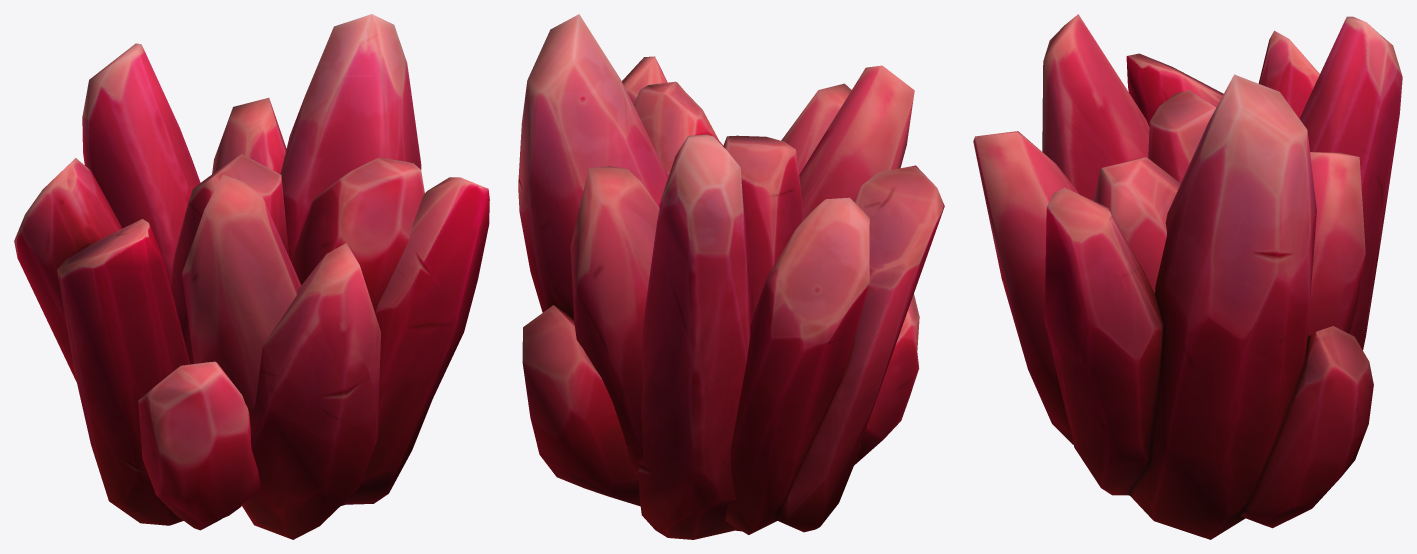
File: SM_Gem_Ruby_007.fbx
The picture shows the model from 3 angles, left to right: view 1: azimuth 30°, elevation 25°; view 2: azimuth 150°, elevation 25°; view 3: azimuth 270°, elevation 25°; orthographic projection. The views are drawn at different scales.
Visible parts, largest first — view 1: SM_Gem_Ruby_007; view 2: SM_Gem_Ruby_007; view 3: SM_Gem_Ruby_007.
Boxes of the visible parts, <box> form: SM_Gem_Ruby_007: <box>14,14,489,539</box>; SM_Gem_Ruby_007: <box>518,14,944,539</box>; SM_Gem_Ruby_007: <box>973,14,1402,539</box>.
Bounding box in the file's own units: 59.55 × 72.81 × 58.55.
